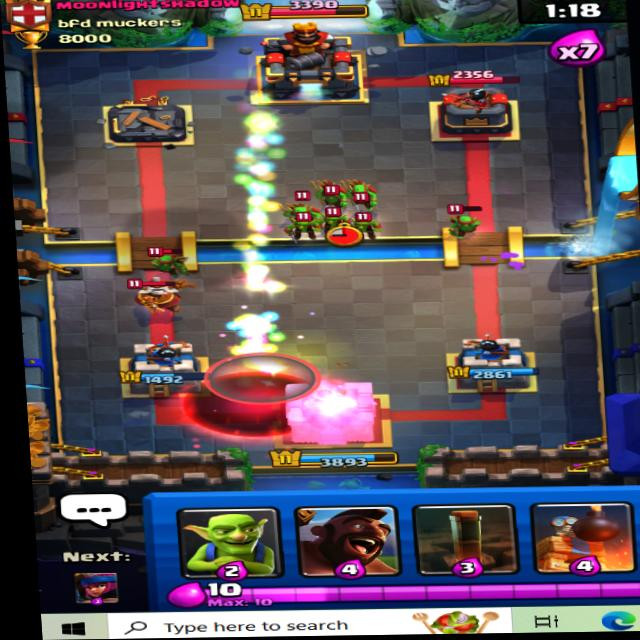Goblin: (317, 208, 352, 239), (348, 211, 383, 239), (288, 214, 316, 242)
Monk: (120, 272, 192, 312)
Speargoblin: (146, 243, 192, 276), (442, 202, 483, 238), (308, 177, 355, 208), (347, 176, 387, 211), (285, 197, 316, 222)
Void: (168, 363, 360, 447)
